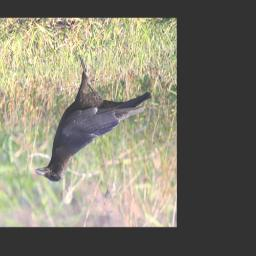Crow: (34, 50, 153, 184)
